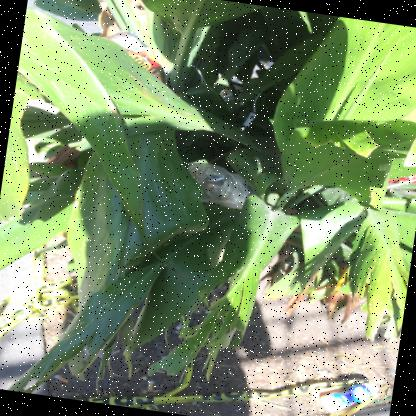Cigarette: (53, 375, 68, 383), (147, 380, 153, 390)
Clear plastic bottle: (187, 163, 259, 209)
Other plastic container: (320, 382, 379, 413)
Unlabeled litter: (99, 31, 165, 85)
